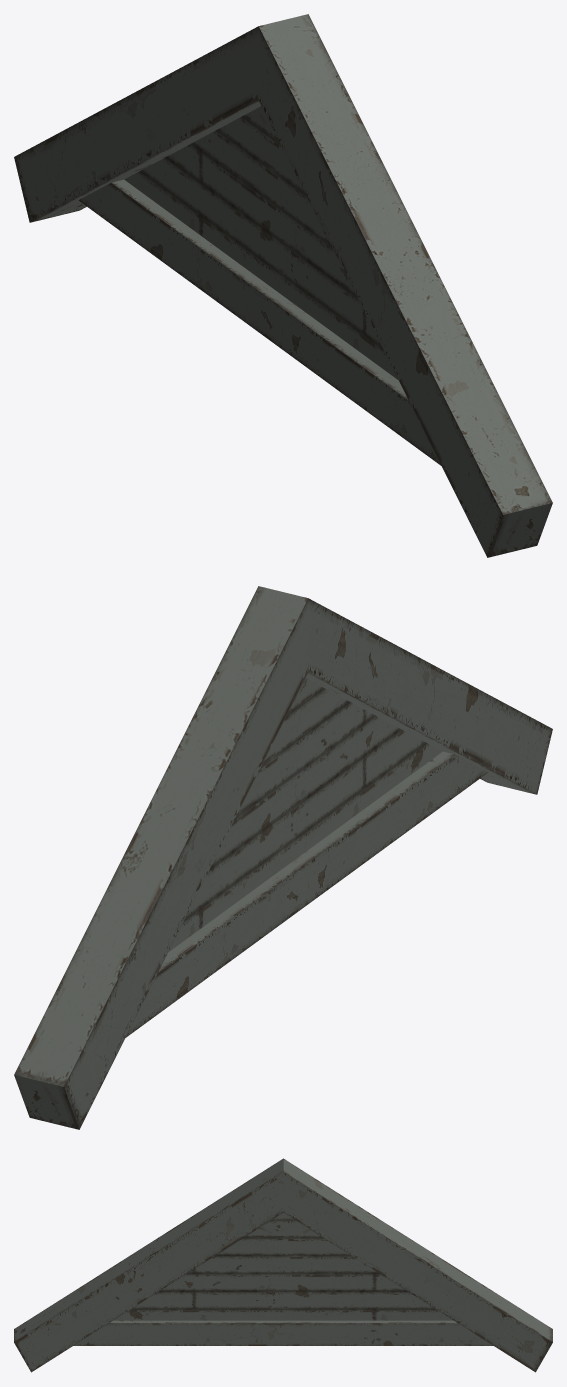
Rendered from SM_Roof400End.FBX.
The picture shows the model from 3 angles, top to bottom: view 1: azimuth 30°, elevation 25°; view 2: azimuth 150°, elevation 25°; view 3: azimuth 270°, elevation 25°; orthographic projection. The views are drawn at different scales.
Parts seen in each view (by area): view 1: SM_Roof400End; view 2: SM_Roof400End; view 3: SM_Roof400End.
Part boxes in pixels (x1,y1,x2,y2): SM_Roof400End: [14, 14, 552, 557]; SM_Roof400End: [14, 586, 552, 1129]; SM_Roof400End: [14, 1158, 552, 1372].
Bounding box in the file's own units: 35.56 × 248 × 604.
